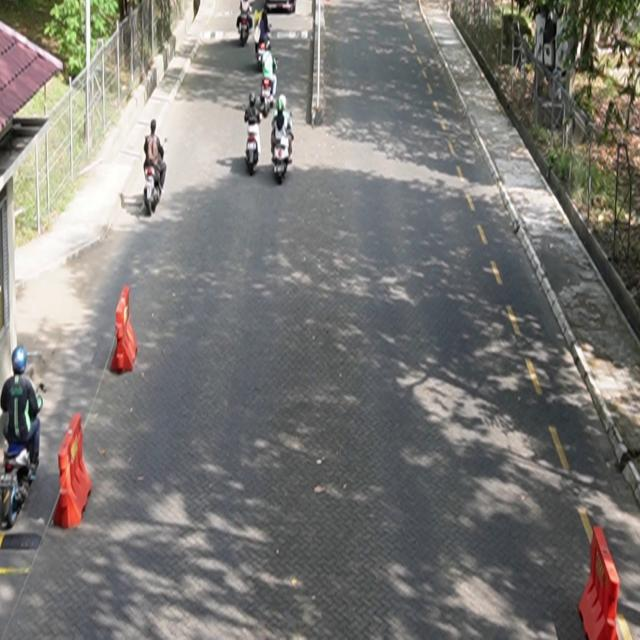car: (266, 1, 297, 14)
